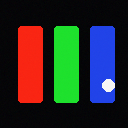2 circle: (102, 79, 114, 91)
